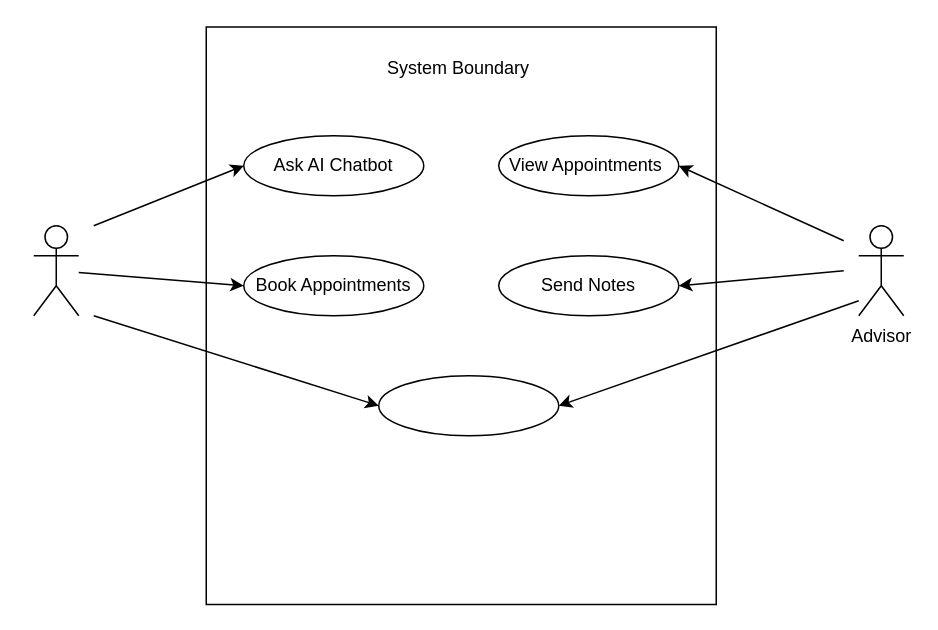
Image size: 938x630. Some labels were removed from this diagram. Here are the shapes that lost their labels. From the top down, the centre of each, then its label:
At [55,270]: "Student".
At [468,405]: "Cancel Appointments".
